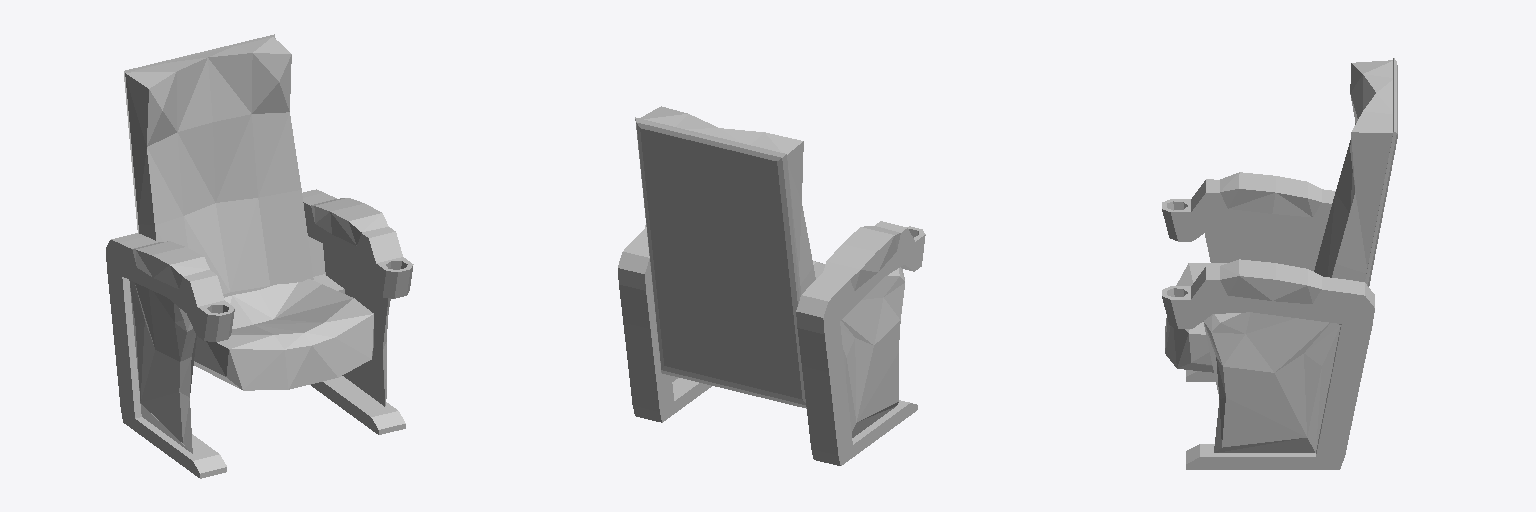
The model's file is theater2.obj.
3 renders of one model, left to right at view 1: azimuth 30°, elevation 25°; view 2: azimuth 150°, elevation 25°; view 3: azimuth 270°, elevation 25°, orthographic.
Parts seen in each view (by area): view 1: Cube.004_Cube.014, Cube, Cube.003_Cube.013, Cube.002_Cube.010, Cube.001_Cube.009, SeatBackPanel.001_Cube.015; view 2: SeatBackPanel.001_Cube.015, Cube, Cube.002_Cube.010, Cube.004_Cube.014, Cube.001_Cube.009; view 3: Cube.002_Cube.010, Cube, Cube.004_Cube.014, Cube.001_Cube.009, Cube.003_Cube.013, SeatBackPanel.001_Cube.015.
Part boxes in pixels (x1,y1,x2,y2): Cube.004_Cube.014: (125, 37, 313, 294); Cube: (106, 189, 413, 478); Cube.003_Cube.013: (194, 279, 373, 390); Cube.002_Cube.010: (129, 244, 390, 453); Cube.001_Cube.009: (132, 198, 388, 288); SeatBackPanel.001_Cube.015: (124, 34, 275, 297); SeatBackPanel.001_Cube.015: (635, 117, 806, 408); Cube: (618, 221, 925, 465); Cube.002_Cube.010: (672, 267, 904, 437); Cube.004_Cube.014: (640, 106, 815, 294); Cube.001_Cube.009: (644, 225, 900, 290); Cube.002_Cube.010: (1203, 225, 1340, 452); Cube: (1162, 179, 1374, 469); Cube.004_Cube.014: (1314, 60, 1392, 281); Cube.001_Cube.009: (1220, 172, 1321, 303); Cube.003_Cube.013: (1165, 263, 1226, 372); SeatBackPanel.001_Cube.015: (1365, 58, 1397, 286).
Bounding box in the file's own units: 1.53 × 2.24 × 1.47.